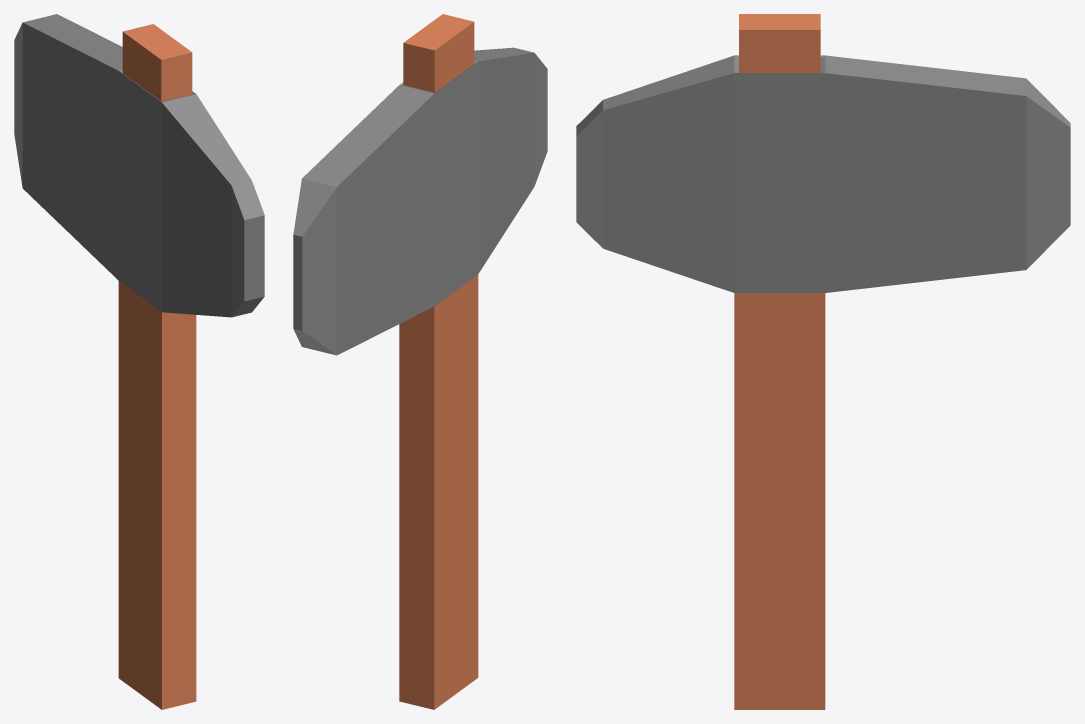
The model's file is hatchet.glb.
The picture shows the model from 3 angles, left to right: view 1: azimuth 30°, elevation 25°; view 2: azimuth 150°, elevation 25°; view 3: azimuth 270°, elevation 25°; orthographic projection. The views are drawn at different scales.
Visible parts, largest first — view 1: Cube; view 2: Cube; view 3: Cube.
Part boxes in pixels (x1,y1,x2,y2): Cube: [14, 14, 264, 709]; Cube: [293, 14, 547, 709]; Cube: [576, 14, 1070, 709].
Size of the model in its own units: 0.0541 by 0.9689 by 0.6395.
